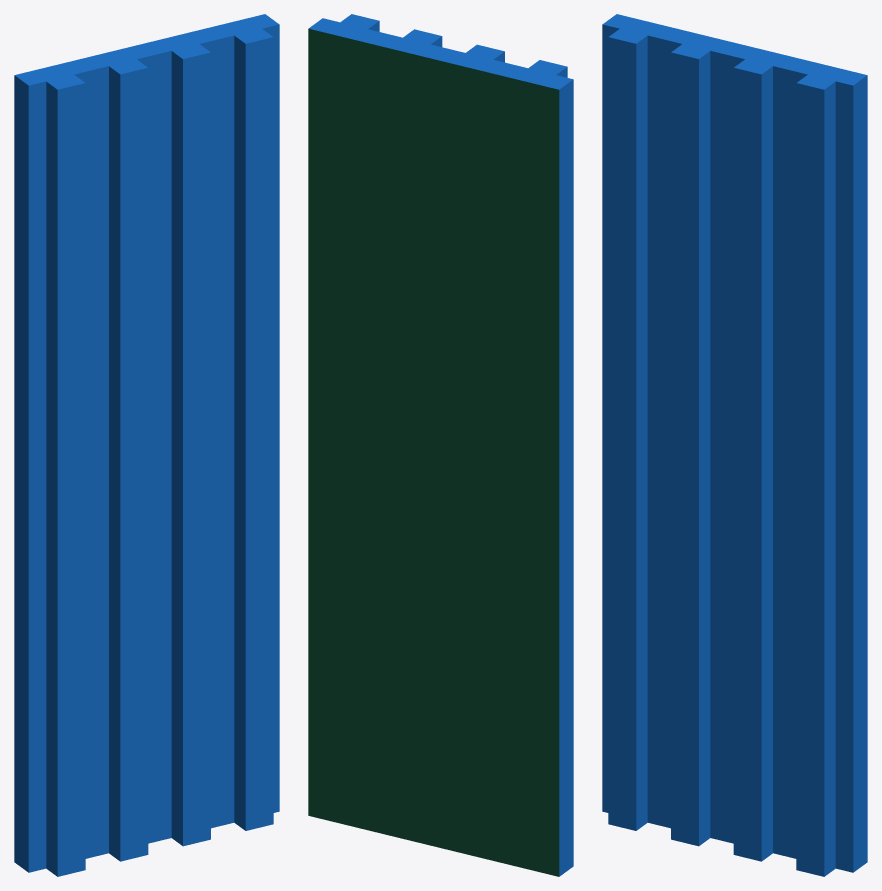
The model's file is T_wooden_wall3.fbx.
3 renders of one model, left to right at view 1: azimuth 30°, elevation 25°; view 2: azimuth 150°, elevation 25°; view 3: azimuth 330°, elevation 25°, orthographic.
Visible parts, largest first — view 1: wooden_wall3; view 2: wooden_wall3; view 3: wooden_wall3.
Boxes of the visible parts, bbox=[...] form: wooden_wall3: bbox=[14, 14, 279, 876]; wooden_wall3: bbox=[308, 14, 573, 876]; wooden_wall3: bbox=[602, 14, 867, 876].
Bounding box in the file's own units: 100 × 300 × 17.81.
